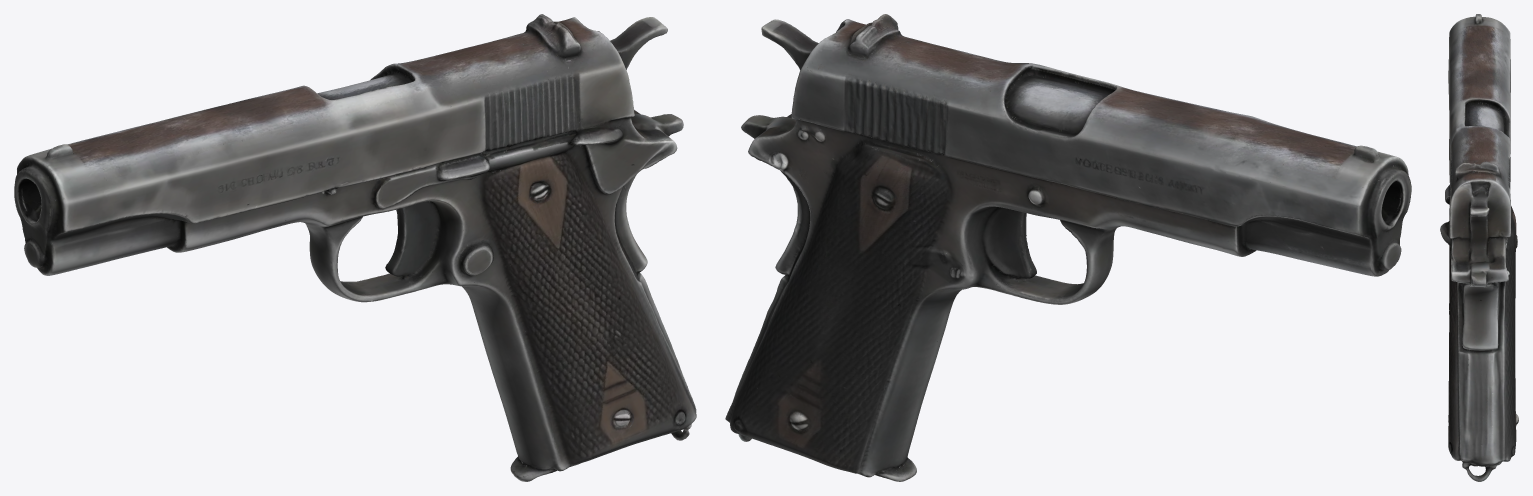
File: Colt 45 Pist.glb
3 views of the same model, side by side, from view 1: azimuth 30°, elevation 25°; view 2: azimuth 150°, elevation 25°; view 3: azimuth 270°, elevation 25° (orthographic). The views are drawn at different scales.
Bounding box in the file's own units: 2 × 1.31 × 0.3334.
1 material, 1 textured.
